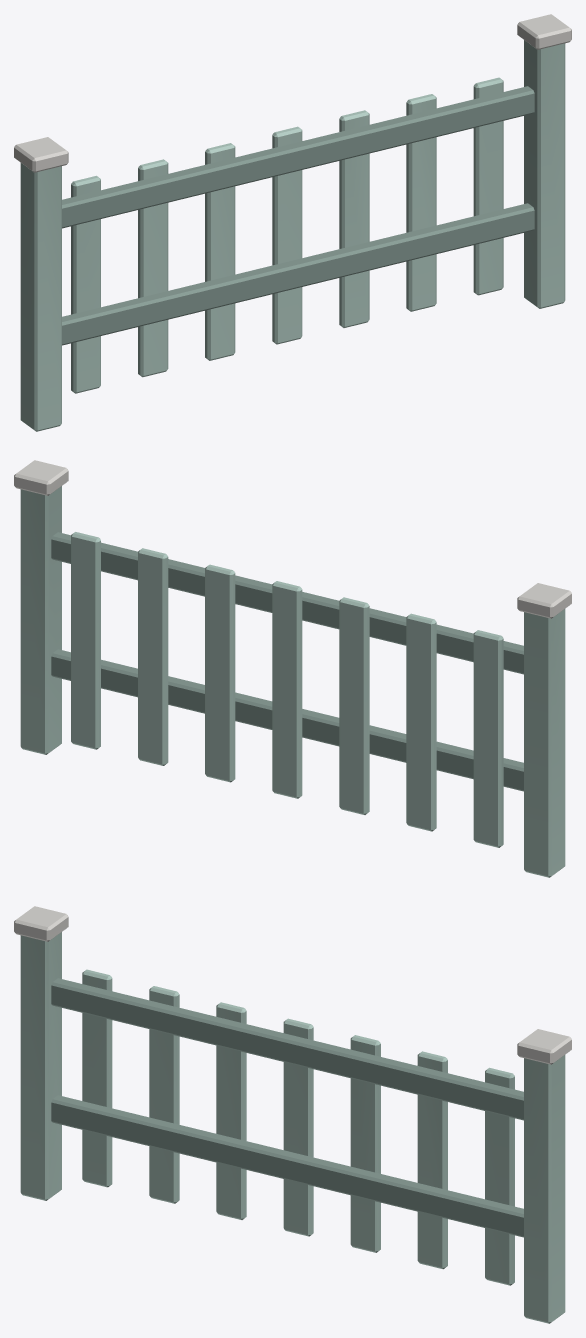
The model's file is furn_fence_piece__mint.glb.
3 views of the same model, one above another, from view 1: azimuth 30°, elevation 25°; view 2: azimuth 150°, elevation 25°; view 3: azimuth 330°, elevation 25° (orthographic).
Bounding box in the file's own units: 1.93 × 0.945 × 0.13.
